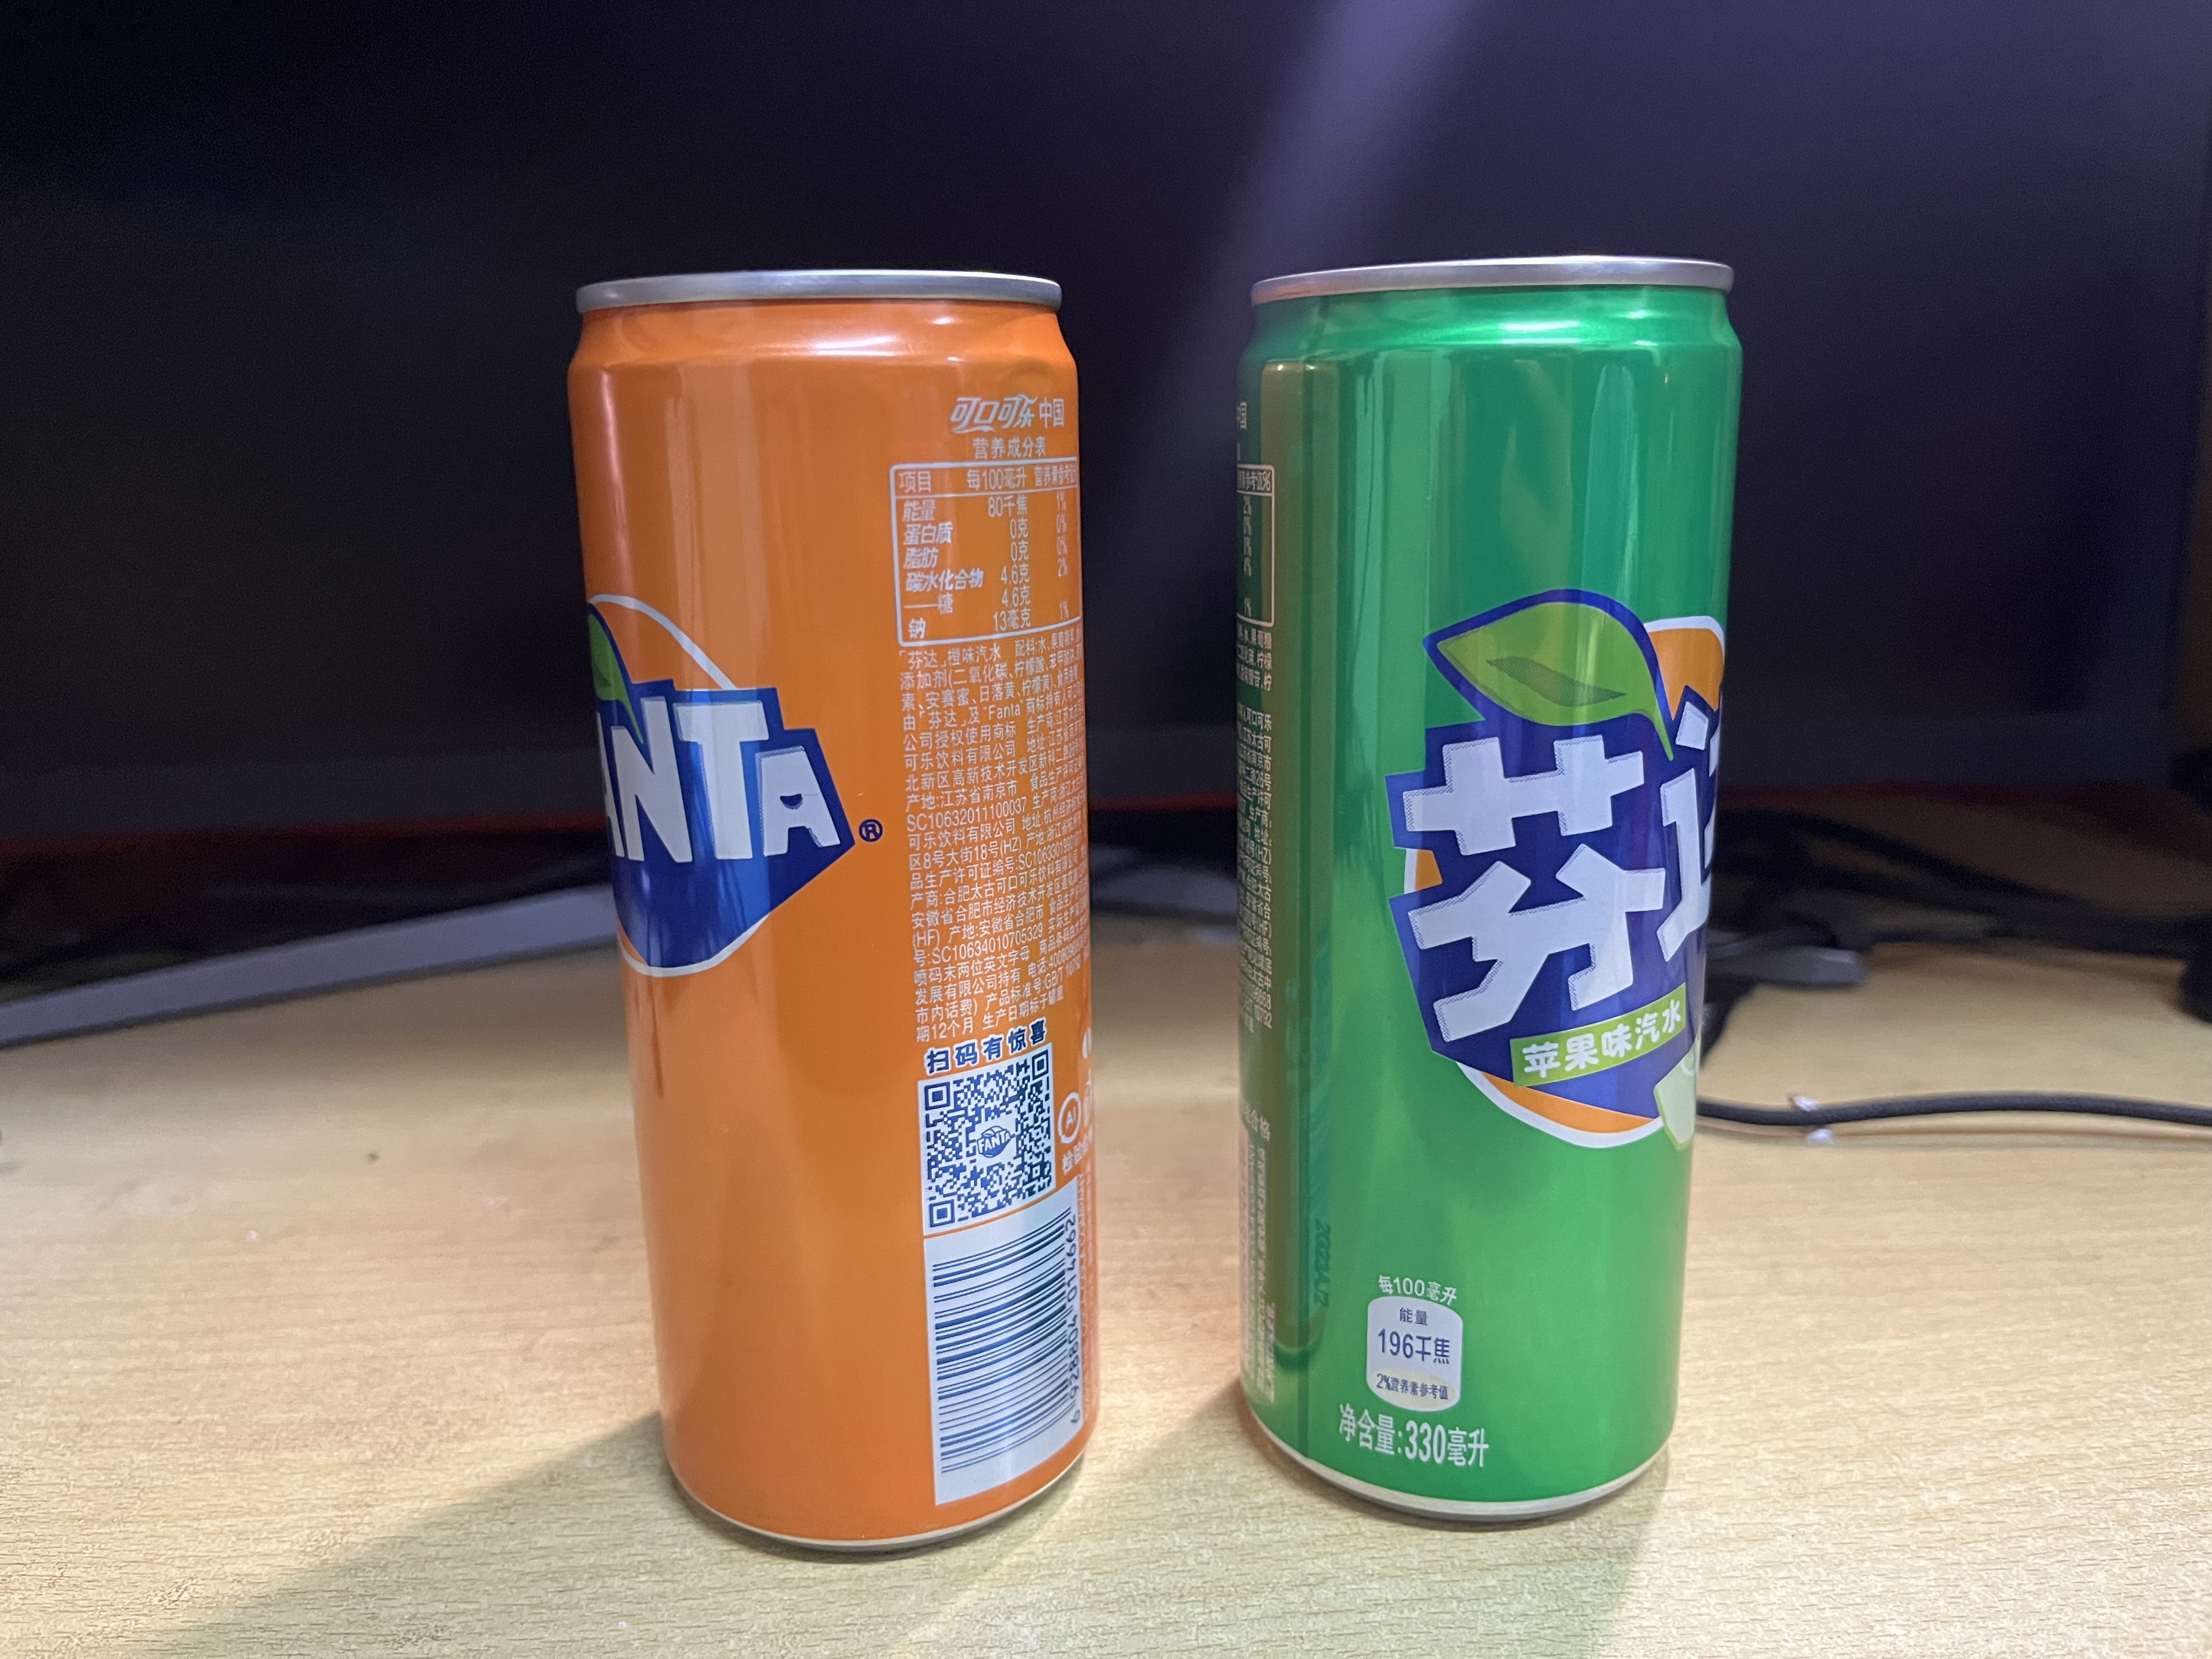FANTA_Apple: (1235, 260, 1747, 1521)
FANTA_Orange: (561, 258, 1101, 1554)
